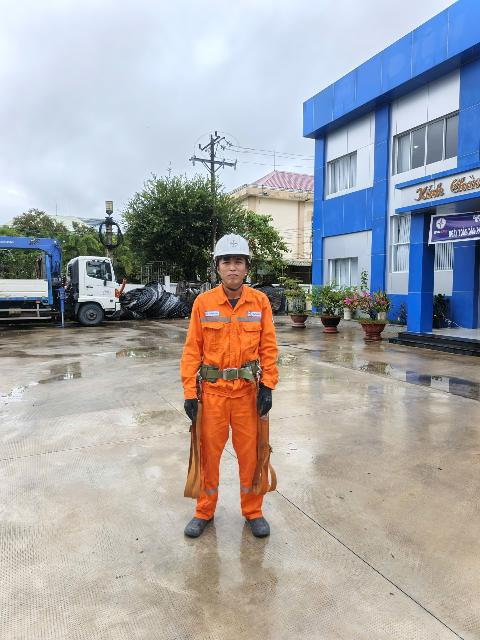gloves: (177, 392, 212, 424), (256, 380, 279, 418)
harness: (194, 350, 274, 384)
helmet: (199, 223, 263, 264)
shoes: (176, 508, 221, 538), (241, 506, 278, 539)
